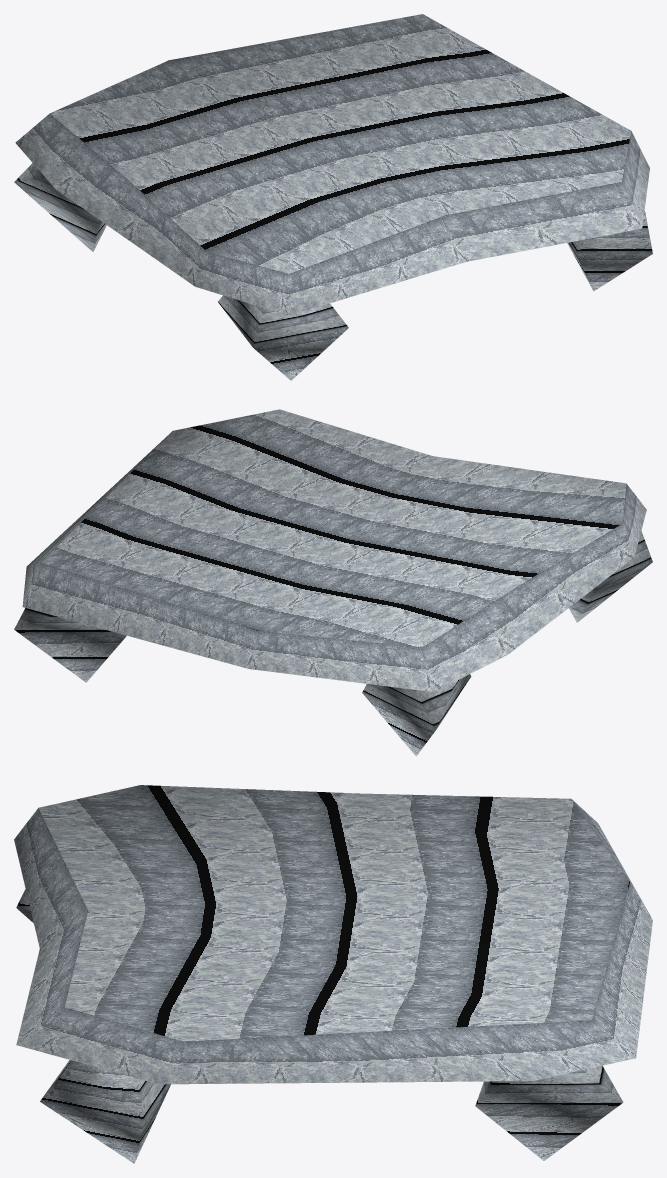
File: 3341IMIG12_02.gltf
3 views of the same model, one above another, from view 1: azimuth 30°, elevation 25°; view 2: azimuth 150°, elevation 25°; view 3: azimuth 270°, elevation 25° (orthographic). The views are drawn at different scales.
Parts seen in each view (by area): view 1: 3341IMIG12_02; view 2: 3341IMIG12_02; view 3: 3341IMIG12_02.
Boxes of the visible parts, <box> form: 3341IMIG12_02: <box>14,14,652,380</box>; 3341IMIG12_02: <box>14,409,652,756</box>; 3341IMIG12_02: <box>14,785,652,1163</box>.
Bounding box in the file's own units: 1.96 × 0.5256 × 1.95.
1 material, 1 textured.
